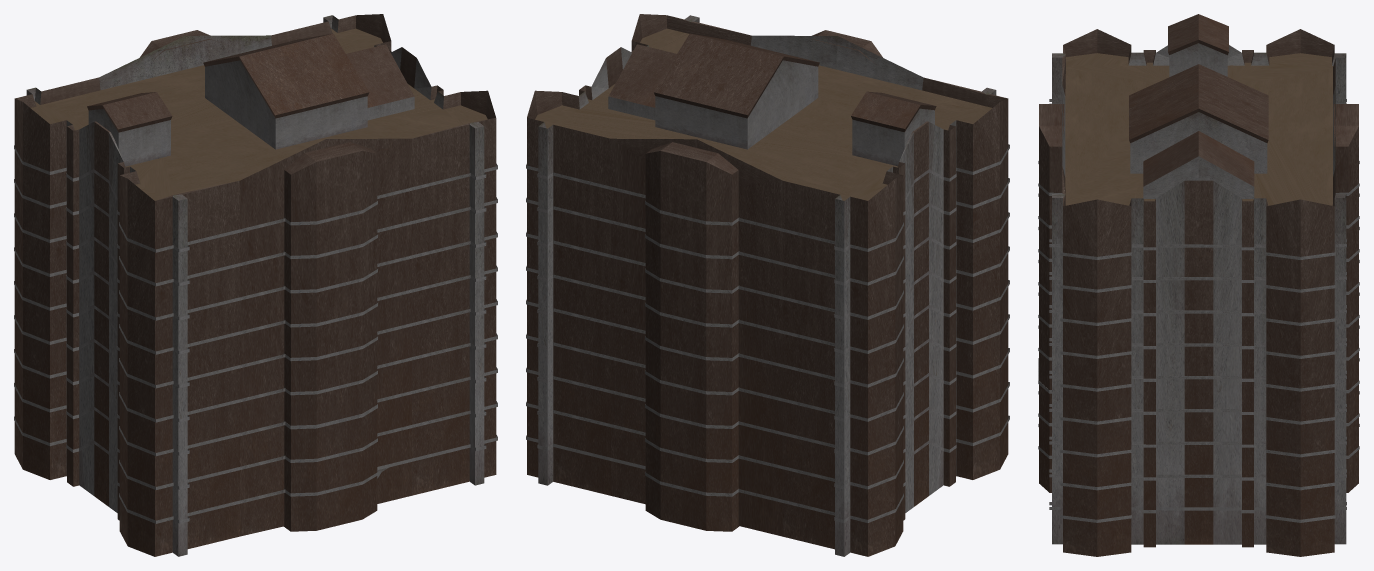
File: ORB_7_S10_Detail_3.fbx
The picture shows the model from 3 angles, left to right: view 1: azimuth 30°, elevation 25°; view 2: azimuth 150°, elevation 25°; view 3: azimuth 270°, elevation 25°; orthographic projection. The views are drawn at different scales.
Visible parts, largest first — view 1: ORB_7_S10_Detail_3; view 2: ORB_7_S10_Detail_3; view 3: ORB_7_S10_Detail_3.
Part boxes in pixels (<box>): ORB_7_S10_Detail_3: <box>14,14,497,556</box>; ORB_7_S10_Detail_3: <box>526,14,1009,556</box>; ORB_7_S10_Detail_3: <box>1038,14,1359,556</box>.
Bounding box in the file's own units: 2968 × 3237 × 2358.
